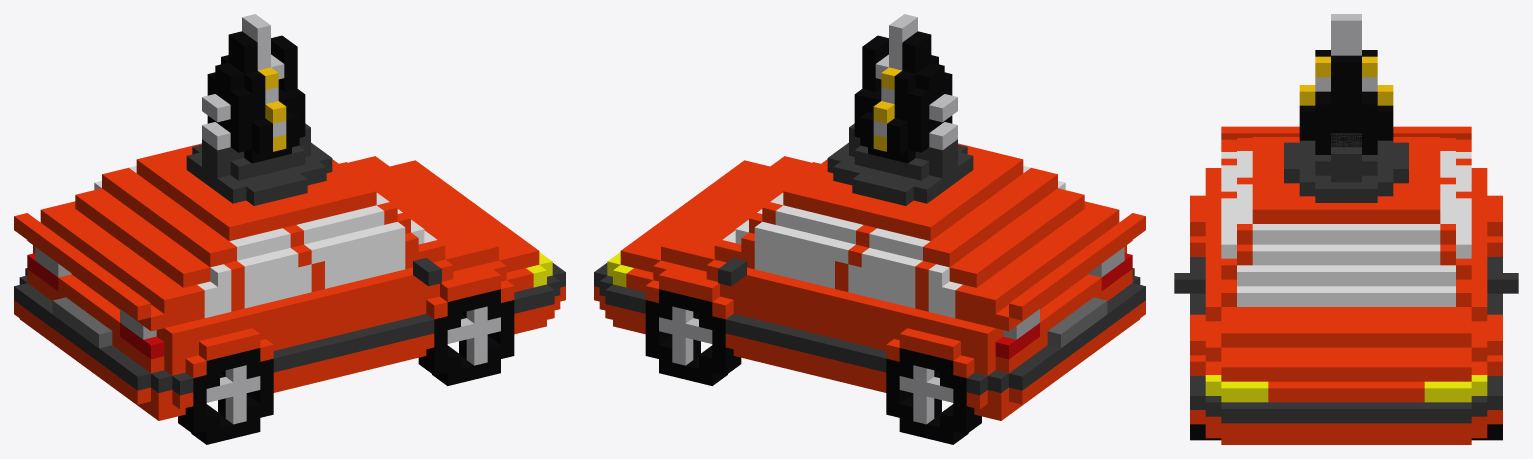
The model's file is saab9000.gltf.
The picture shows the model from 3 angles, left to right: view 1: azimuth 30°, elevation 25°; view 2: azimuth 150°, elevation 25°; view 3: azimuth 270°, elevation 25°; orthographic projection.
Parts seen in each view (by area): view 1: Chassi, Windows, Gun cannon, Wheel back right, Wheel front right, Gun base, Back break lights, Back reverse lights; view 2: Chassi, Windows, Gun cannon, Wheel back left, Wheel front left, Gun base, Back break lights, Back reverse lights; view 3: Chassi, Windows, Gun cannon, Gun base, Front lights.
Boxes of the visible parts, x1,y1,x2,y2 form: Chassi: (14, 143, 565, 420); Windows: (94, 166, 437, 317); Gun cannon: (202, 14, 305, 163); Wheel back right: (178, 348, 273, 444); Wheel front right: (418, 289, 514, 385); Gun base: (186, 123, 332, 205); Back break lights: (27, 253, 164, 359); Back reverse lights: (35, 247, 156, 339); Chassi: (594, 143, 1145, 420); Windows: (722, 166, 1065, 317); Gun cannon: (854, 14, 957, 163); Wheel back left: (886, 348, 981, 444); Wheel front left: (645, 289, 741, 385); Gun base: (827, 123, 973, 205); Back break lights: (995, 253, 1132, 359); Back reverse lights: (1003, 247, 1124, 339); Chassi: (1174, 126, 1518, 444); Windows: (1221, 151, 1471, 306); Gun cannon: (1299, 14, 1393, 154); Gun base: (1284, 133, 1408, 202); Front lights: (1205, 375, 1487, 402).
Bounding box in the file's own units: 32 × 24 × 22.
Materials: 1 (1 with a texture image).
